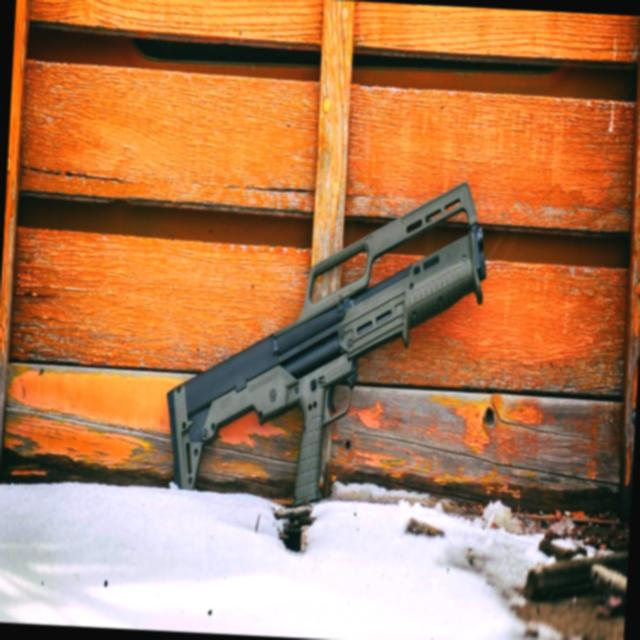shotgun: (137, 144, 547, 542)
